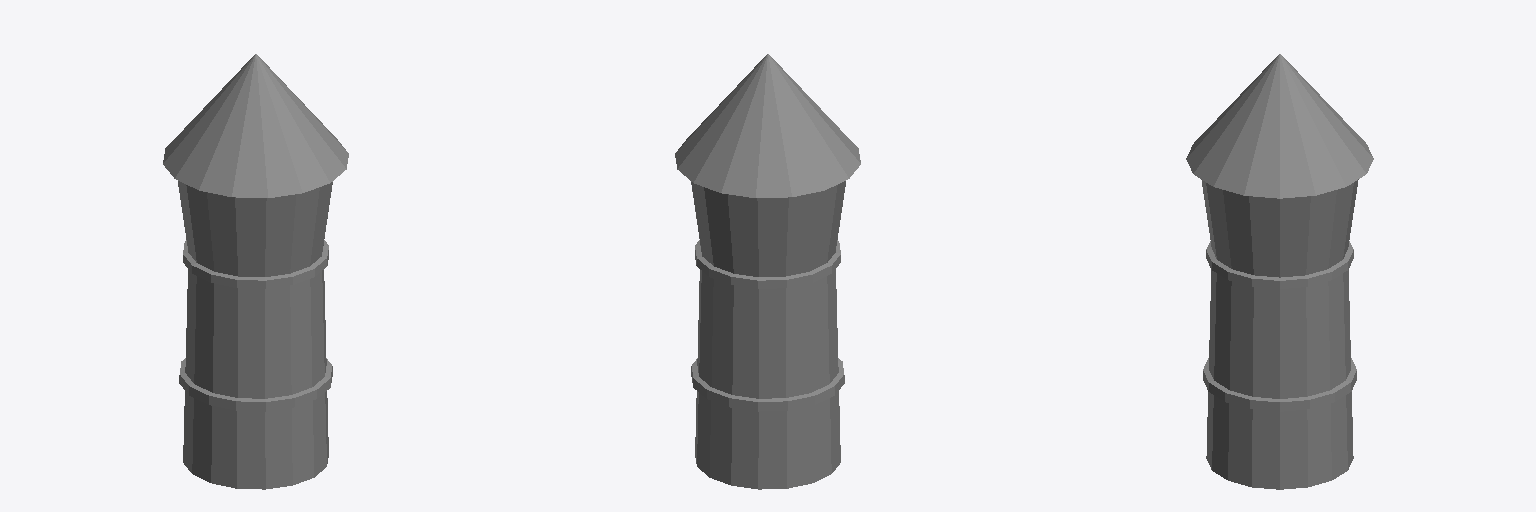
File: Hous_13_Cut.obj
3 renders of one model, left to right at view 1: azimuth 30°, elevation 25°; view 2: azimuth 150°, elevation 25°; view 3: azimuth 270°, elevation 25°, orthographic.
Parts seen in each view (by area): view 1: House13_T, House13_R; view 2: House13_T, House13_R; view 3: House13_T, House13_R.
Boxes of the visible parts, <box> form: House13_T: <box>179,240,332,489</box>; House13_R: <box>163,54,348,276</box>; House13_T: <box>691,240,844,489</box>; House13_R: <box>675,54,860,276</box>; House13_T: <box>1203,241,1356,489</box>; House13_R: <box>1186,54,1373,277</box>.
Size of the model in its own units: 6.17 by 14.69 by 6.17.